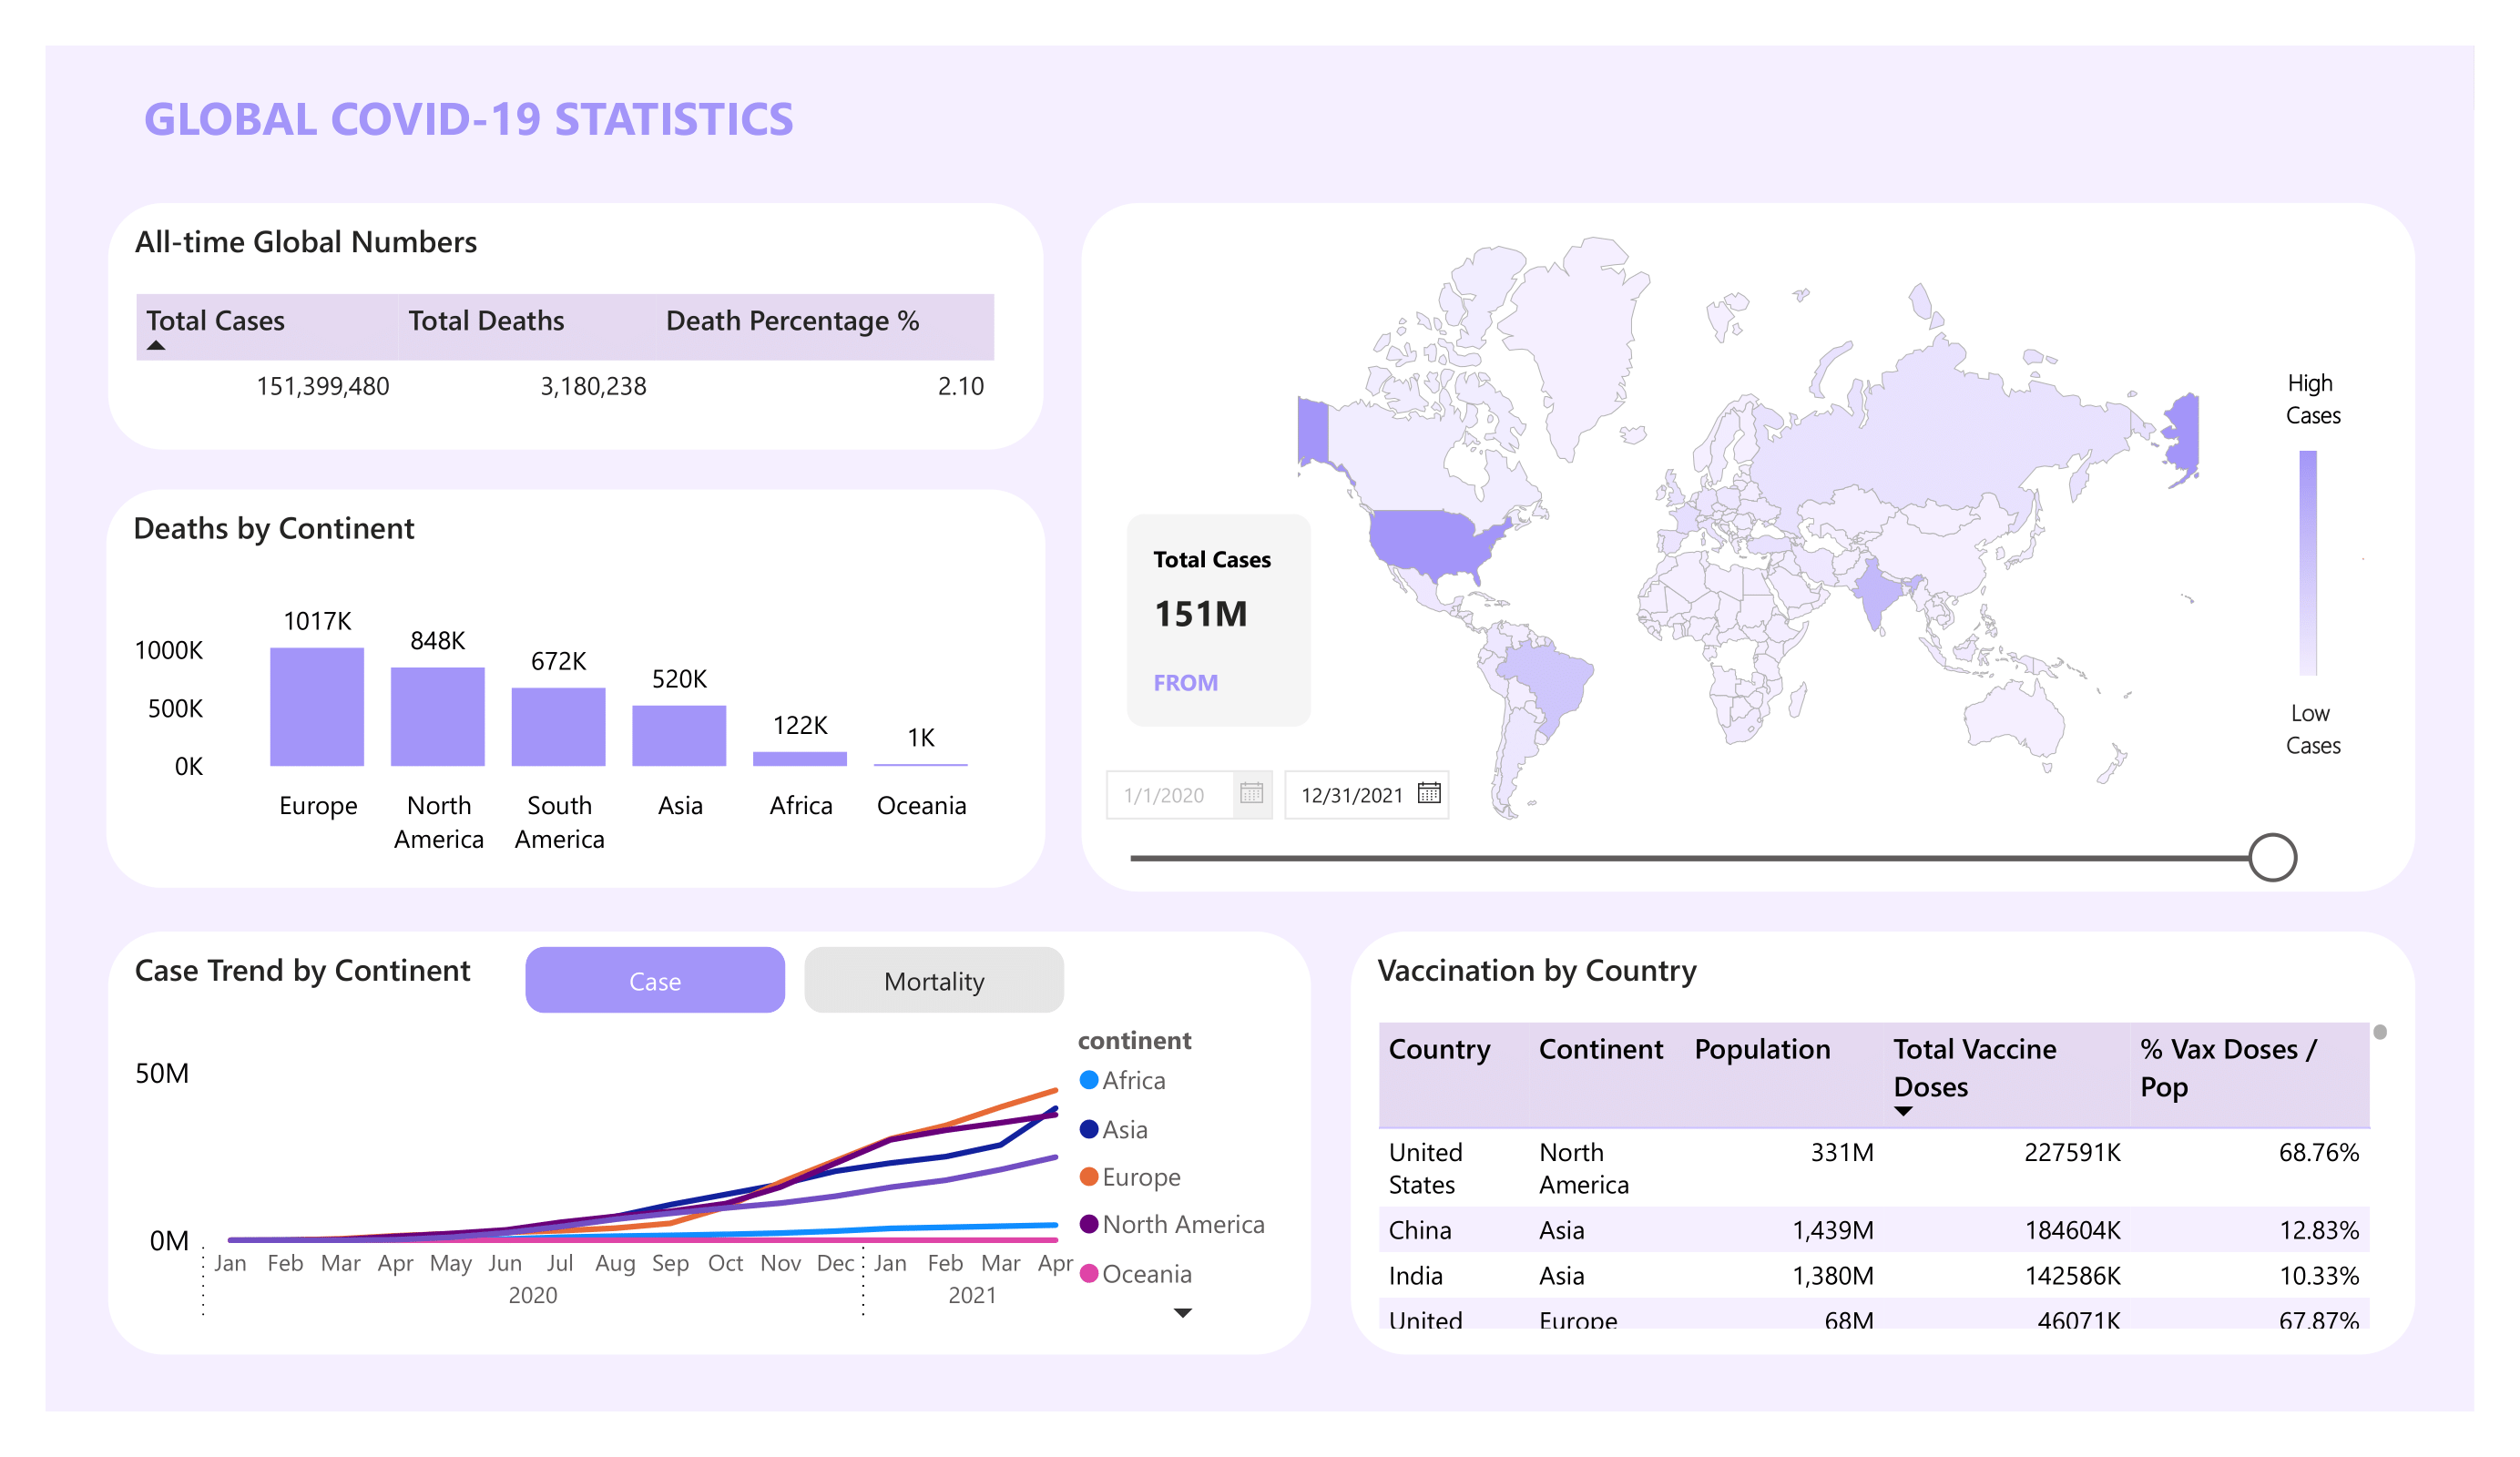

The dashboard page shown, as its layout file describes it:
{"tool":"powerbi","page":{"name":"Page 1","canvas":[1280,720],"ordinal":0},"visuals":[{"type":"textbox","box":[46.7,16.5,397.9,52.1],"z":0},{"type":"tableEx","title":"All-time Global Numbers","fields":{"Values":["Global_Numbers.Total_case","Global_Numbers.Total_deaths","Global_Numbers.Deaths_percent"]},"box":[31.6,82.3,495.4,131.7],"z":1000},{"type":"columnChart","title":"Deaths by Continent","fields":{"Category":["InfectionByContinent.continent"],"Y":["Max(InfectionByContinent.Total_Deaths_Continent)"]},"box":[31.2,232.5,496.2,212.5],"z":2000},{"type":"lineChart","title":"Case Trend by Continent","fields":{"Series":["InfectionByContinent.continent"],"Y":["Max(InfectionByContinent.Total_Cases_Continent)"],"Category":["Date.Date Hierarchy.Year","Date.Date Hierarchy.Month"]},"box":[32.5,465.6,635.2,225],"z":4000},{"type":"bookmarkNavigator","box":[252.6,475.2,283.9,34.9],"z":5000},{"type":"shapeMap","fields":{"Category":["InfectionByLocation.Location"],"Value":["Max(InfectionByLocation.HighestInfectionCount)"]},"box":[546,82.5,702.5,363],"z":6000},{"type":"image","box":[1173.4,209.2,62.5,127.5],"z":7000},{"type":"textbox","box":[1154.9,162.6,81.4,47.1],"z":8000},{"type":"textbox","box":[1154.9,336.9,81.4,47.1],"z":9000},{"type":"slicer","fields":{"Values":["Date.Date"]},"box":[546,372,649,74],"z":10000},{"type":"cardVisual","fields":{"Data":["Max(InfectionByLocation.Global_Total_Cases)"]},"box":[568.8,246.2,98.8,113.8],"z":11000},{"type":"tableEx","title":"Vaccination by Country","fields":{"Values":["PercentPopulationVaccinated.location","PercentPopulationVaccinated.continent","PercentPopulationVaccinated.population","Max(PercentPopulationVaccinated.Rolling_Vaccinations)","Max(PercentPopulationVaccinated.Percent_Vaccinated)"]},"box":[686.9,465.6,563,225],"z":12000}]}

Visuals, with their boxes in screenshot pixels (x1, y1, x2, y2):
textbox: x1=134, y1=76, x2=889, y2=176
"All-time Global Numbers" tableEx: x1=106, y1=201, x2=1046, y2=452
"Deaths by Continent" columnChart: x1=105, y1=486, x2=1046, y2=890
"Case Trend by Continent" lineChart: x1=107, y1=929, x2=1312, y2=1356
bookmarkNavigator: x1=525, y1=947, x2=1064, y2=1014
shapeMap - InfectionByLocation.Location x Max(InfectionByLocation.HighestInfectionCount): x1=1082, y1=202, x2=2414, y2=891
image: x1=2272, y1=443, x2=2391, y2=684
textbox: x1=2237, y1=354, x2=2392, y2=443
textbox: x1=2237, y1=685, x2=2392, y2=774
slicer - Date.Date: x1=1082, y1=751, x2=2313, y2=892
cardVisual - Max(InfectionByLocation.Global_Total_Cases): x1=1125, y1=513, x2=1312, y2=728
"Vaccination by Country" tableEx: x1=1349, y1=929, x2=2417, y2=1356
